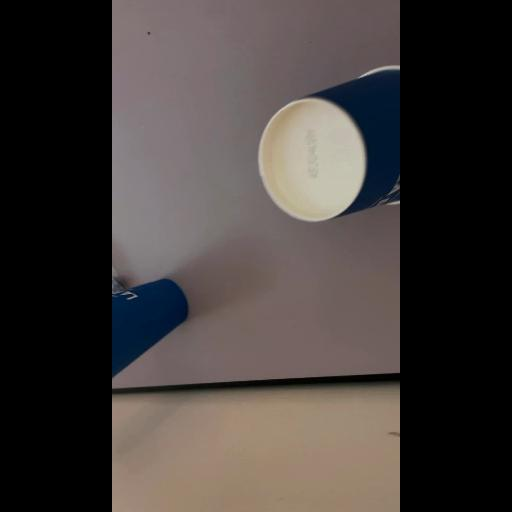lp_paper_cup: (260, 64, 400, 224), (113, 276, 189, 386)
